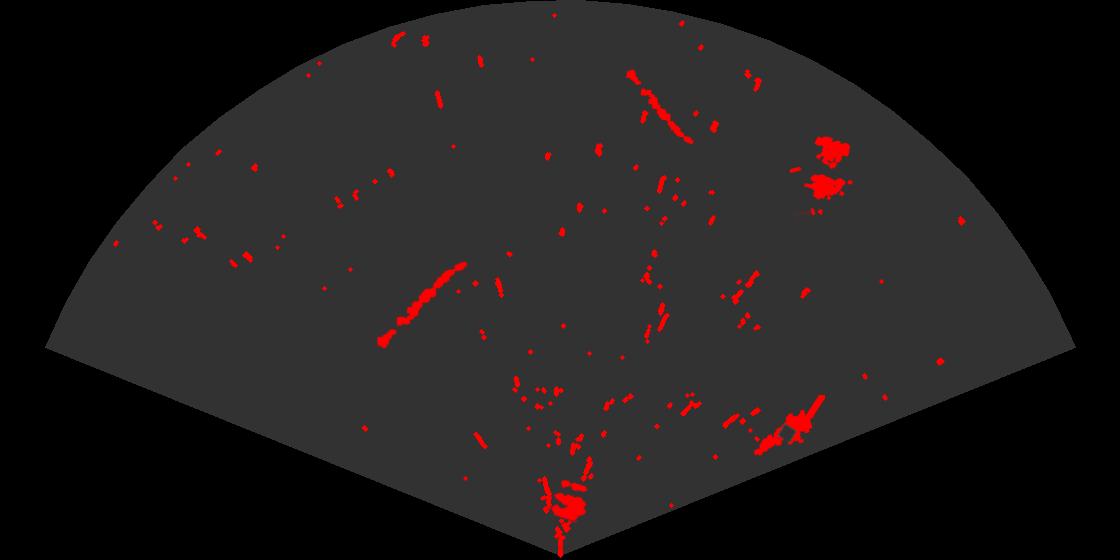ball: (549, 478, 589, 523)
cage: (790, 135, 854, 215)
chain: (375, 260, 469, 350), (624, 68, 695, 146)
frogman: (752, 395, 825, 457)
